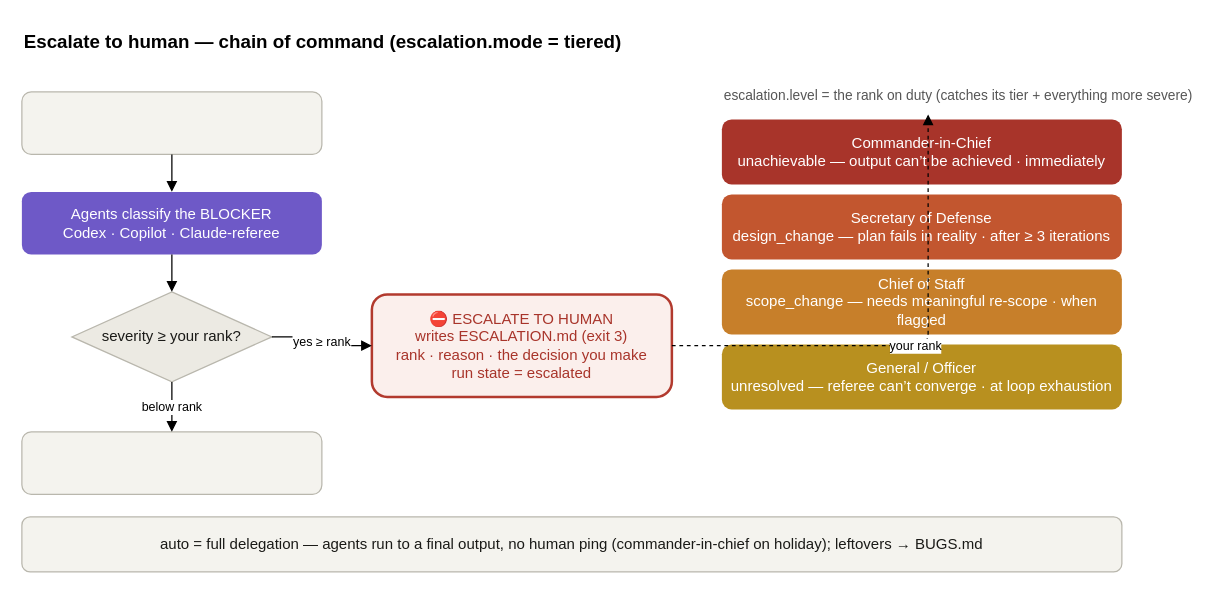
This 1215x594 diagram has some shape labels left out. Here are the shapes that lost their labels. From the top down, the centre of each, then its label:
At point 171,122: "Task NOT approved gate fail or verdict = changes".
At point 171,462: "continue the loop FIX (≤ MaxFix) · or halt + BUGS.md".
